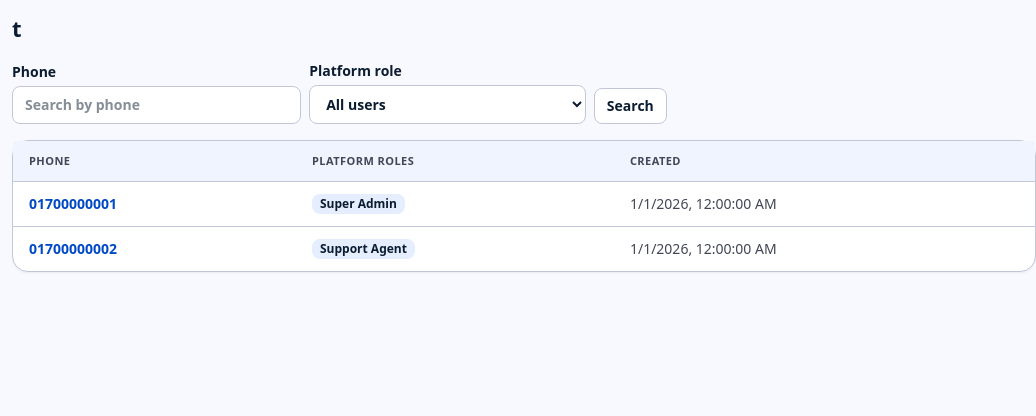
it: UsersScreen › hides role changes on your own account, even as SUPER_ADMIN
Click the button "01700000001" at coordinates (73, 204), box x1=29 y1=194 x2=117 y2=214
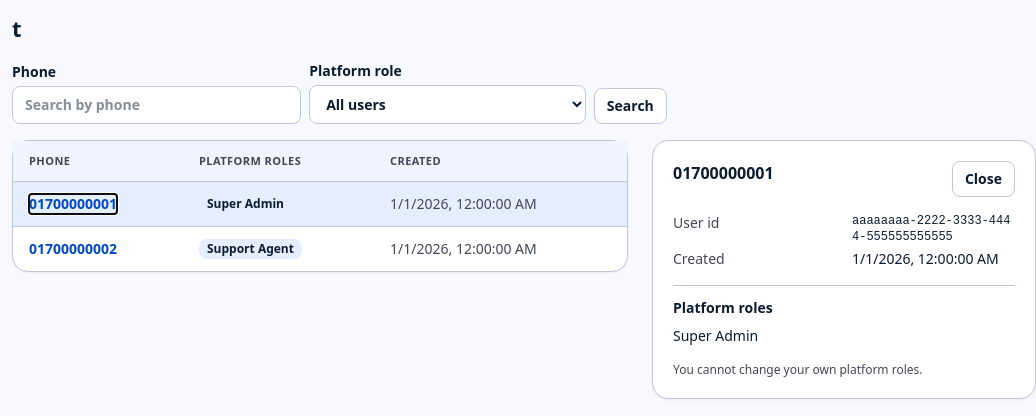
Check: the text "You cannot change your own platform roles." is shown, box x1=673 y1=361 x2=922 y2=378
